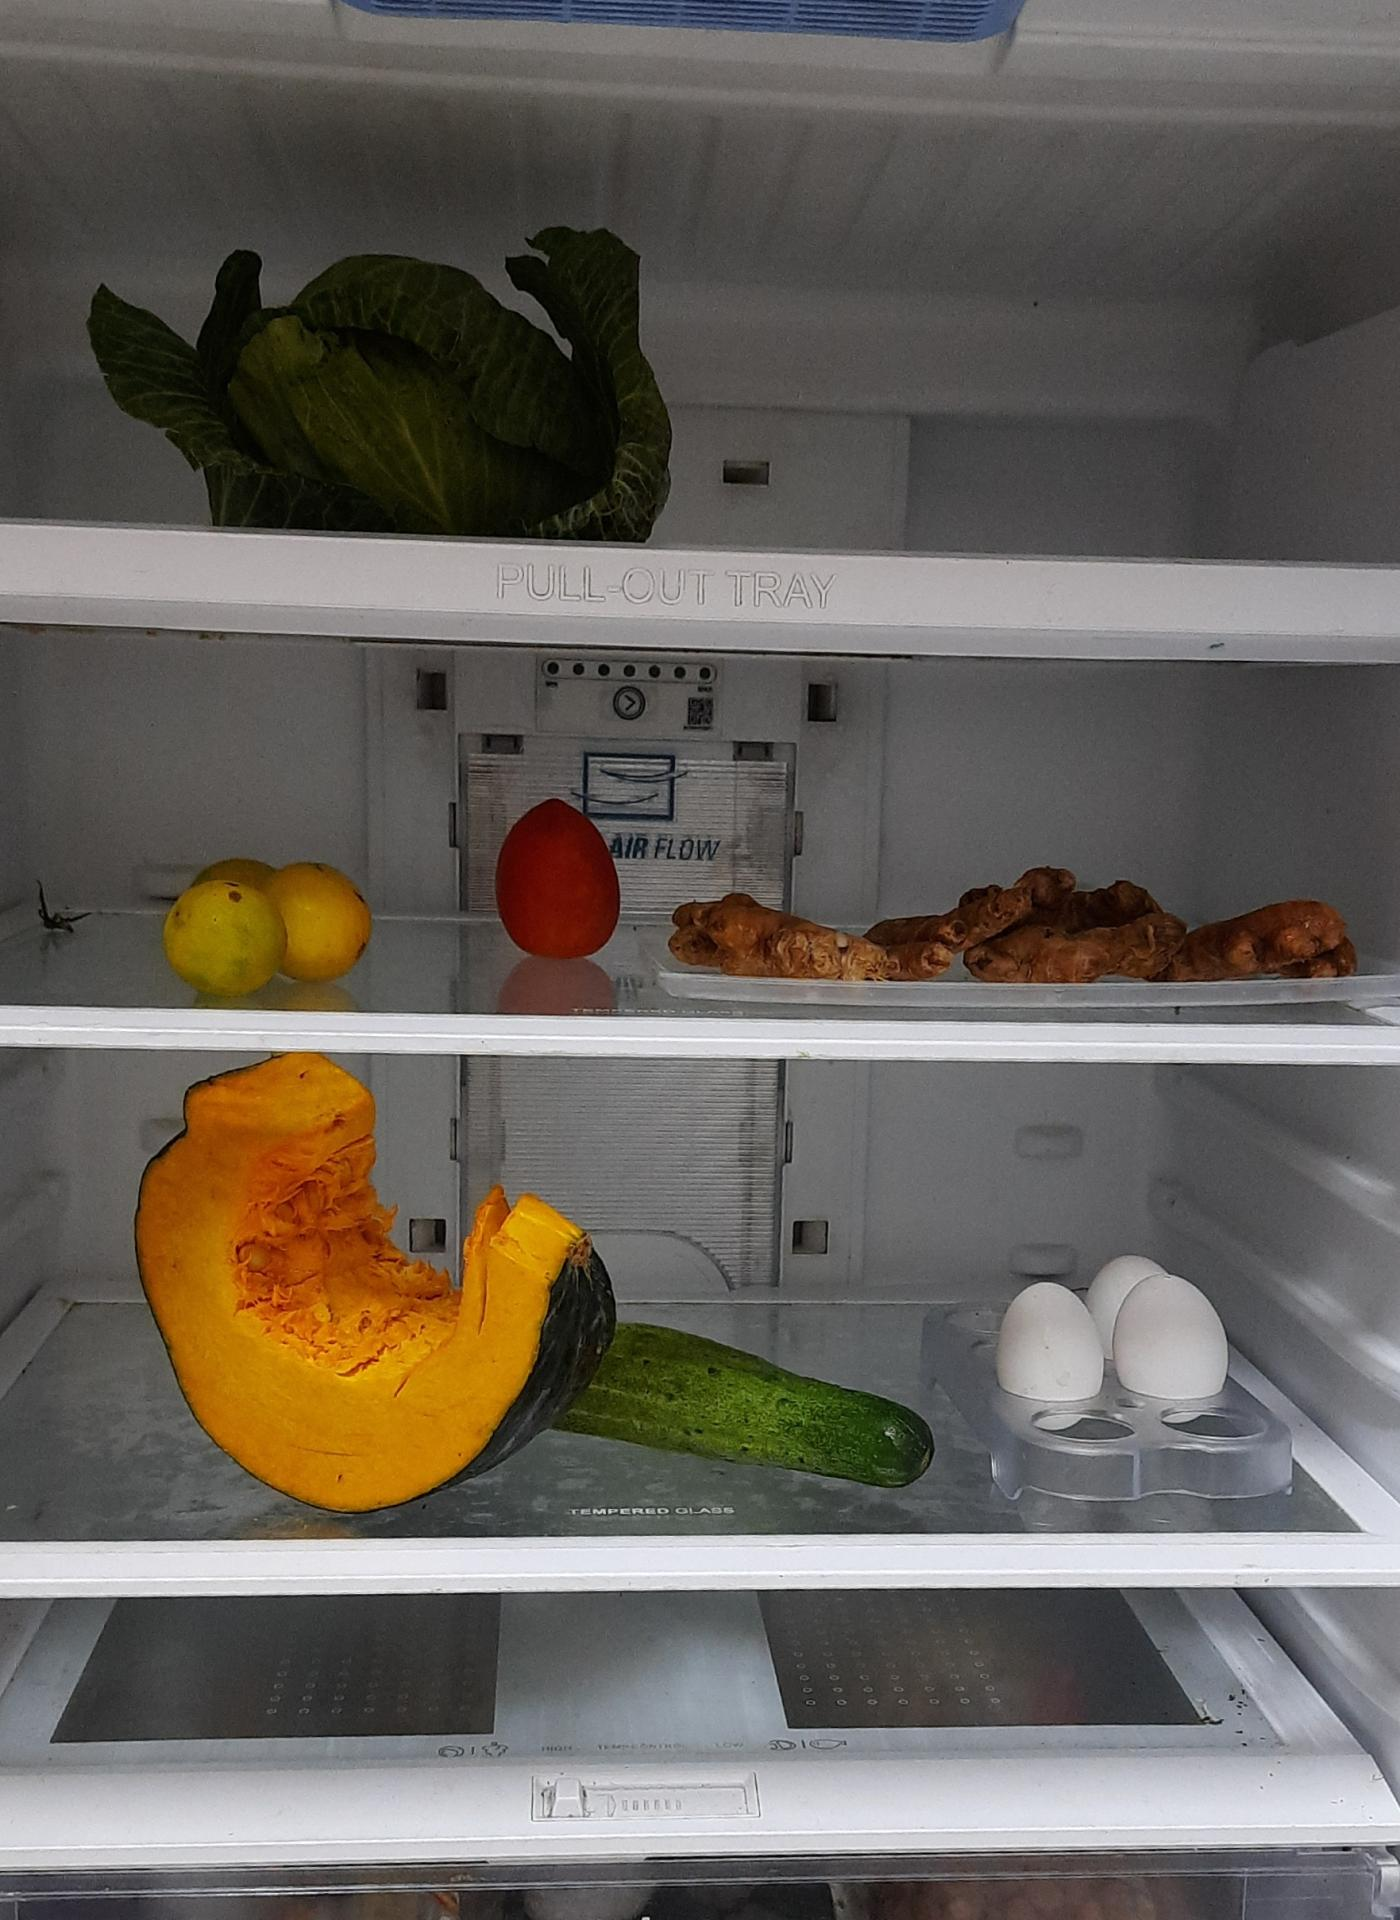cabbage: (75, 213, 686, 547)
cucumber: (537, 1300, 948, 1489)
egg: (999, 1258, 1239, 1424)
ginger: (666, 857, 1363, 981)
lemon: (164, 853, 377, 985)
pumpkin: (136, 1045, 625, 1519)
tomato: (492, 798, 620, 959)
